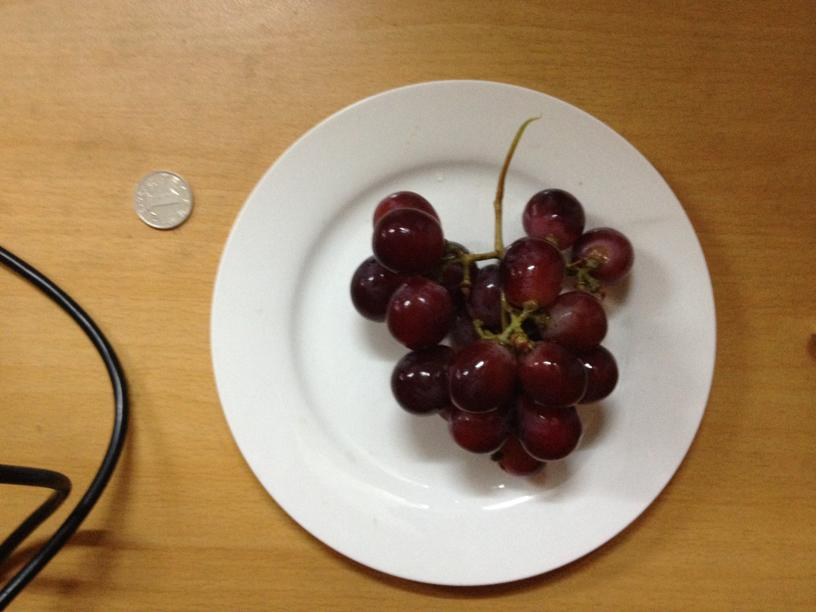coin: (132, 168, 193, 230)
grape: (359, 188, 634, 473)
